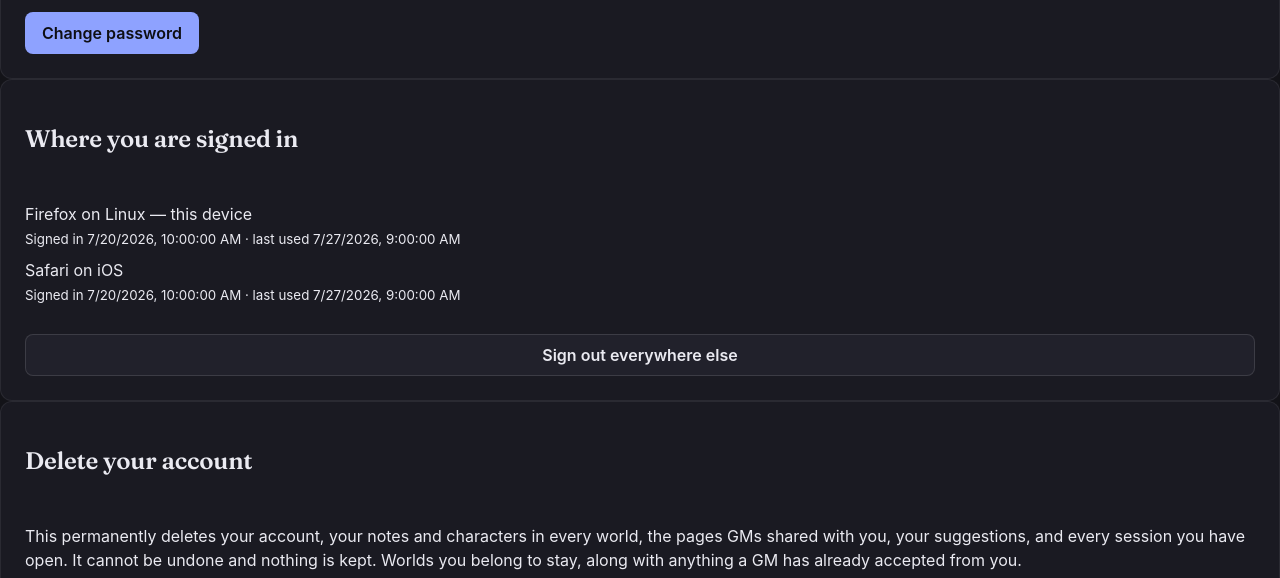
Test: AccountPage — sessions › ends other sessions and re-reads the list
(page scrolled)
Expected: the list item "Safari on iOS" is shown, x1=25 y1=260 x2=123 y2=280
Step 1. Click the button "Sign out everywhere else" → x=640, y=355, box x1=25 y1=334 x2=1255 y2=376
(page scrolled)
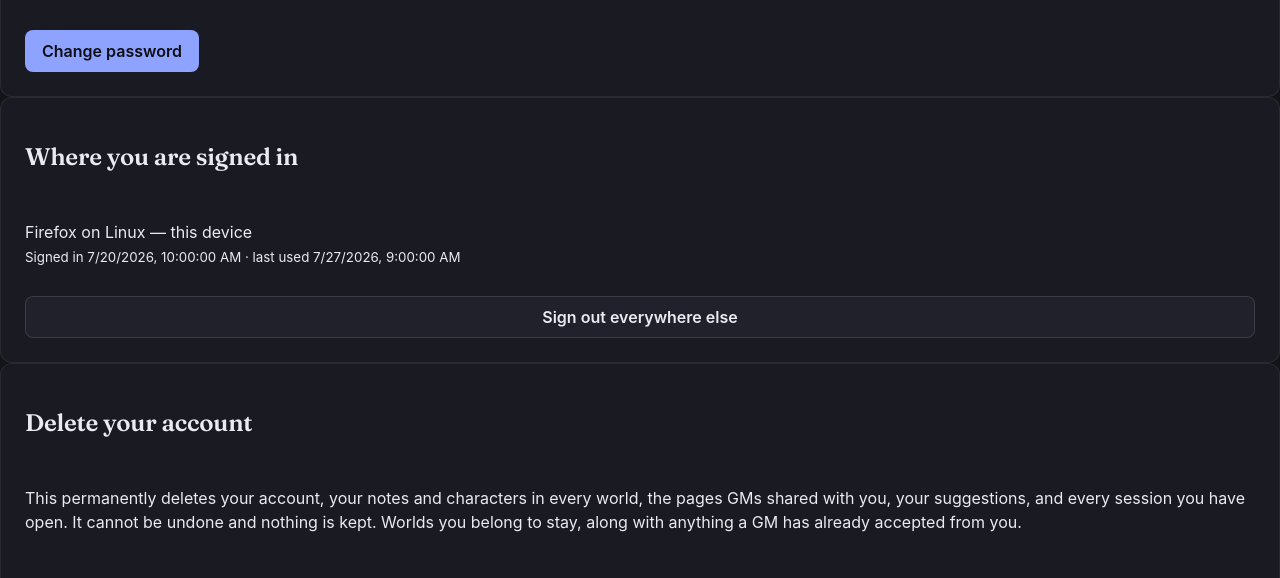
Result: the list item "Safari on iOS" is gone
